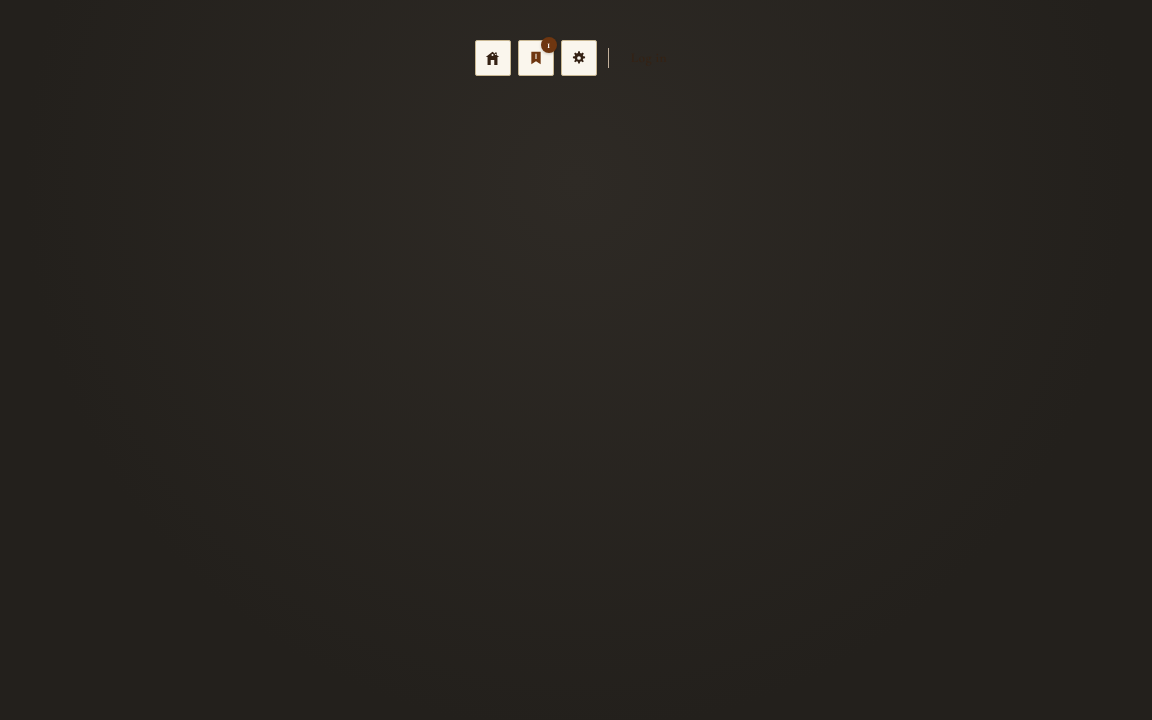
Test case: Client-Side Bookmarks Engine (WP-10) › HeaderUtilities Integration › displays badge count on ribbon icon when bookmarks are present and opens drawer on click
Expected: the text "1" is shown, top-left (541, 37), bottom-right (557, 53)
# Click ribbon button opens drawer
Step 1. Click the button named "Saved Bookmarks (1)" → coordinates (536, 58), box top-left (518, 40), bottom-right (554, 76)
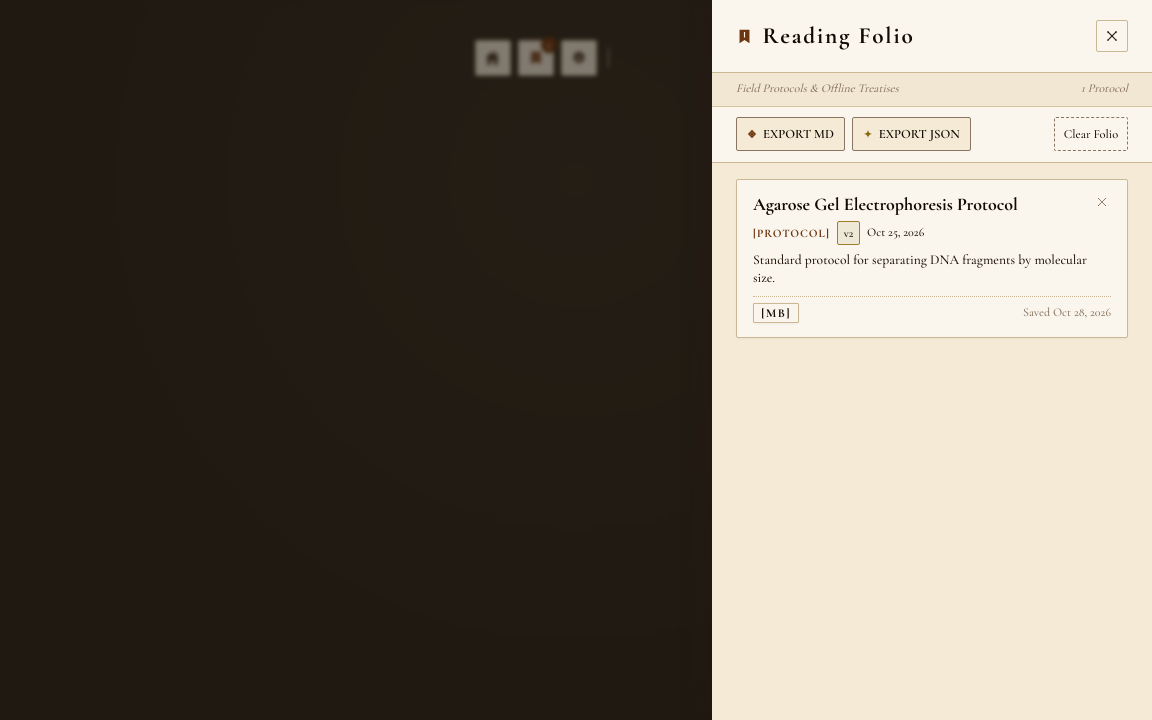
Expected: the dialog named "Personal Reading Folio" is shown
